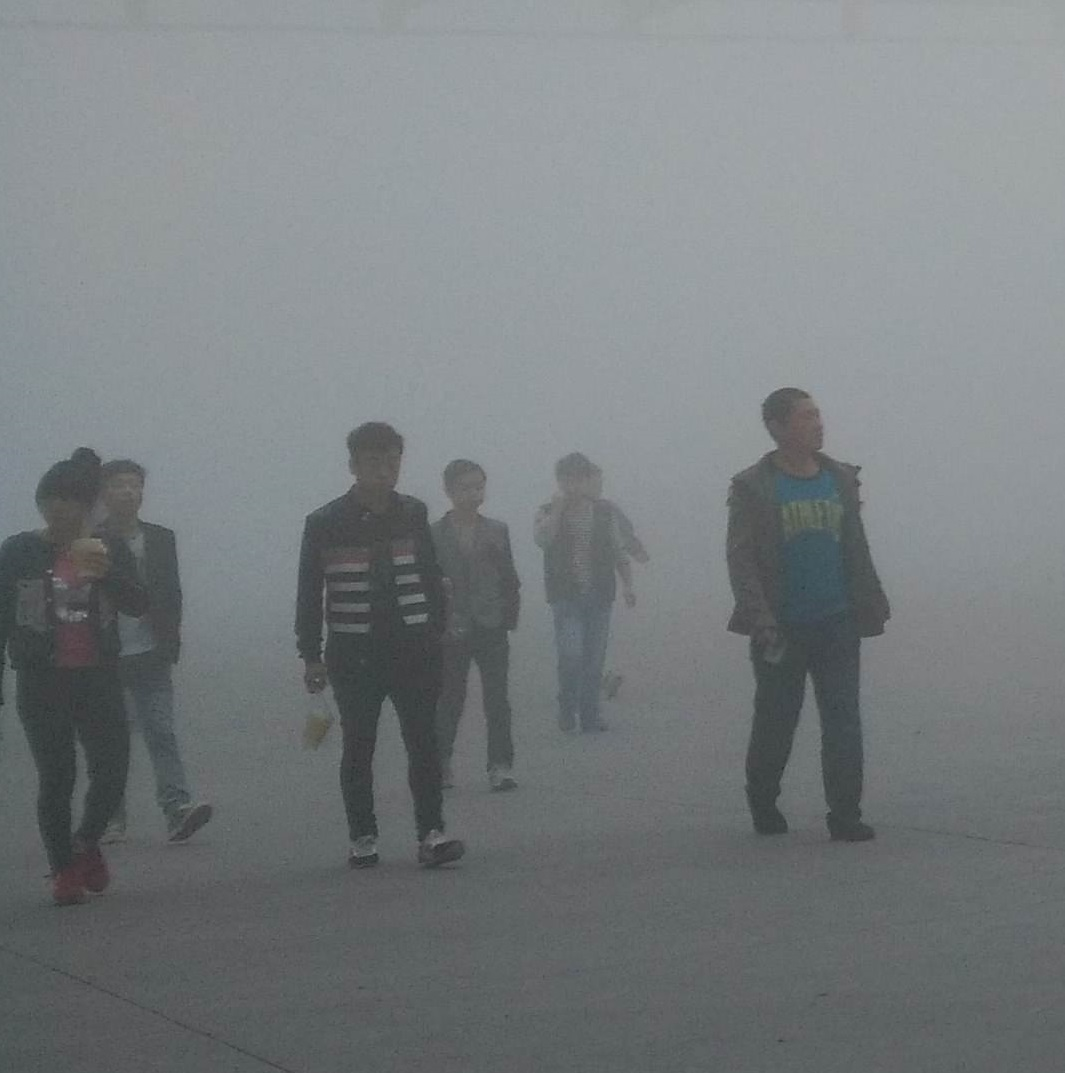person: (295, 422, 476, 873), (720, 380, 887, 850), (87, 452, 222, 853), (10, 458, 127, 911), (431, 453, 536, 807), (530, 450, 656, 744)
